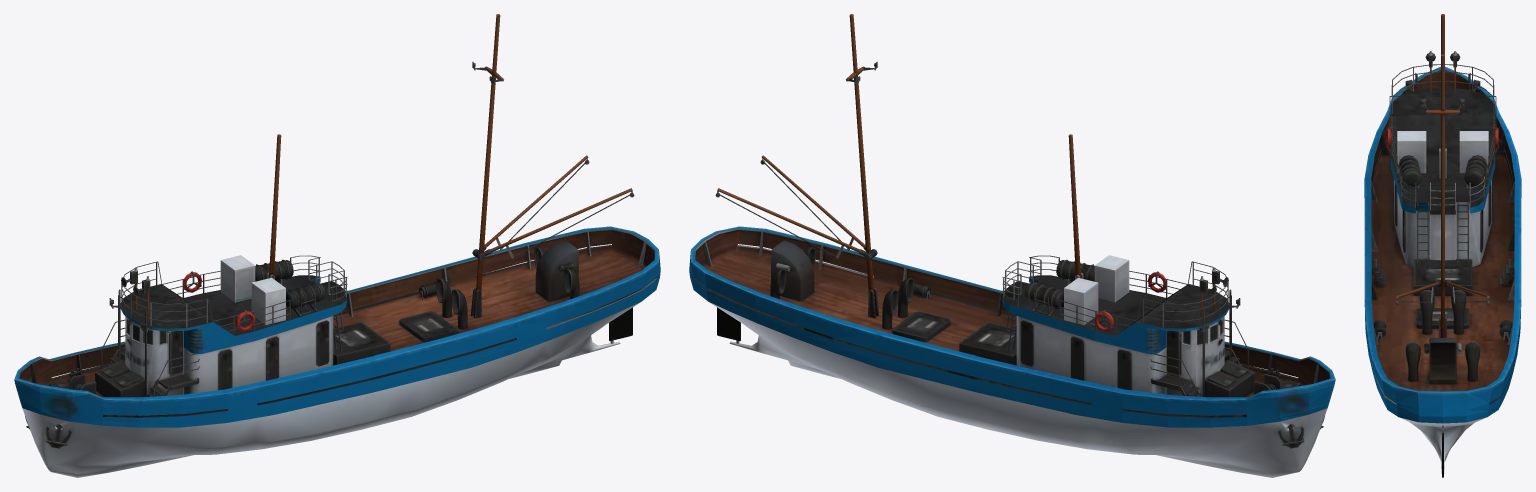
The model's file is FishingBoat.glb.
3 views of the same model, side by side, from view 1: azimuth 30°, elevation 25°; view 2: azimuth 150°, elevation 25°; view 3: azimuth 270°, elevation 25° (orthographic).
Parts seen in each view (by area): view 1: Boat; view 2: Boat; view 3: Boat.
Boxes of the visible parts, bbox=[...] form: Boat: bbox=[14, 14, 660, 477]; Boat: bbox=[689, 14, 1335, 477]; Boat: bbox=[1364, 14, 1521, 477].
Size of the model in its own units: 28.89 by 15.83 by 6.12.
Materials: 1 (1 with a texture image).
